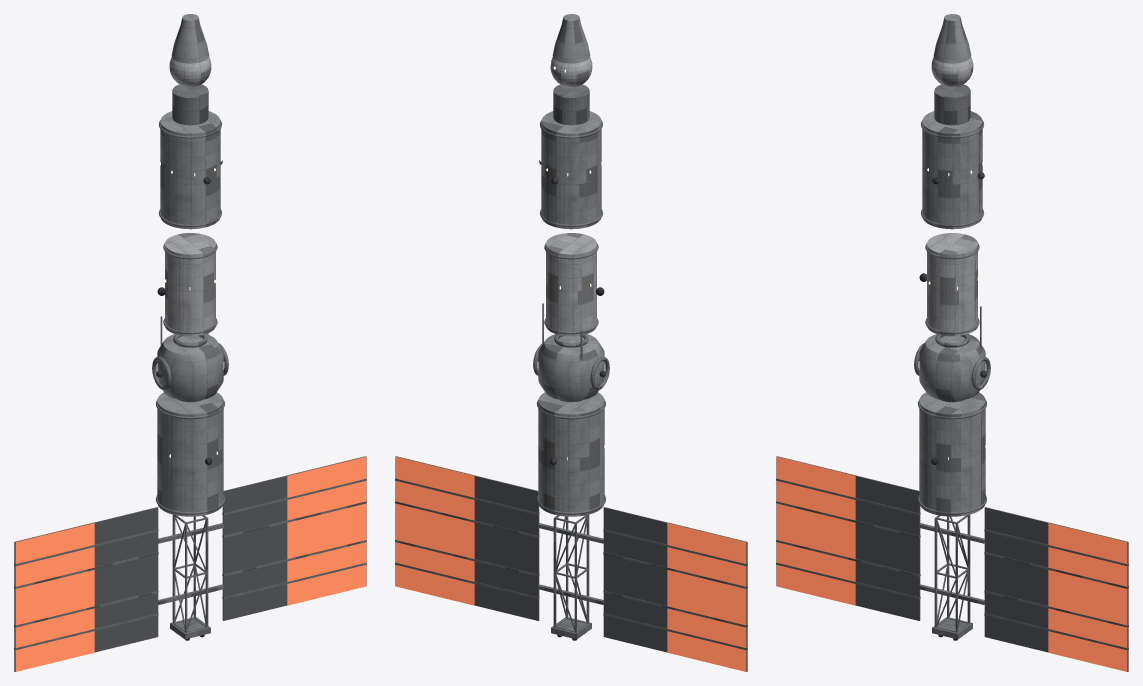
The model's file is workers_modules_spine.glb.
3 renders of one model, left to right at view 1: azimuth 30°, elevation 25°; view 2: azimuth 150°, elevation 25°; view 3: azimuth 330°, elevation 25°, orthographic.
Parts seen in each view (by area): view 1: WorkersModulesSpine_Radiators, WorkersModulesSpine_Hull, WorkersModulesSpine_Ferry; view 2: WorkersModulesSpine_Radiators, WorkersModulesSpine_Hull, WorkersModulesSpine_Ferry; view 3: WorkersModulesSpine_Radiators, WorkersModulesSpine_Hull, WorkersModulesSpine_Ferry.
Boxes of the visible parts, x1,y1,x2,y2 form: WorkersModulesSpine_Radiators: (14,456,366,671); WorkersModulesSpine_Hull: (152,84,228,640); WorkersModulesSpine_Ferry: (169,14,211,87); WorkersModulesSpine_Radiators: (395,456,747,671); WorkersModulesSpine_Hull: (533,84,609,640); WorkersModulesSpine_Ferry: (549,14,592,87); WorkersModulesSpine_Radiators: (776,456,1128,671); WorkersModulesSpine_Hull: (914,84,990,640); WorkersModulesSpine_Ferry: (931,14,974,87).
Bounding box in the file's own units: 54 × 90.6 × 10.56.
Materials: 13 (5 with a texture image).
